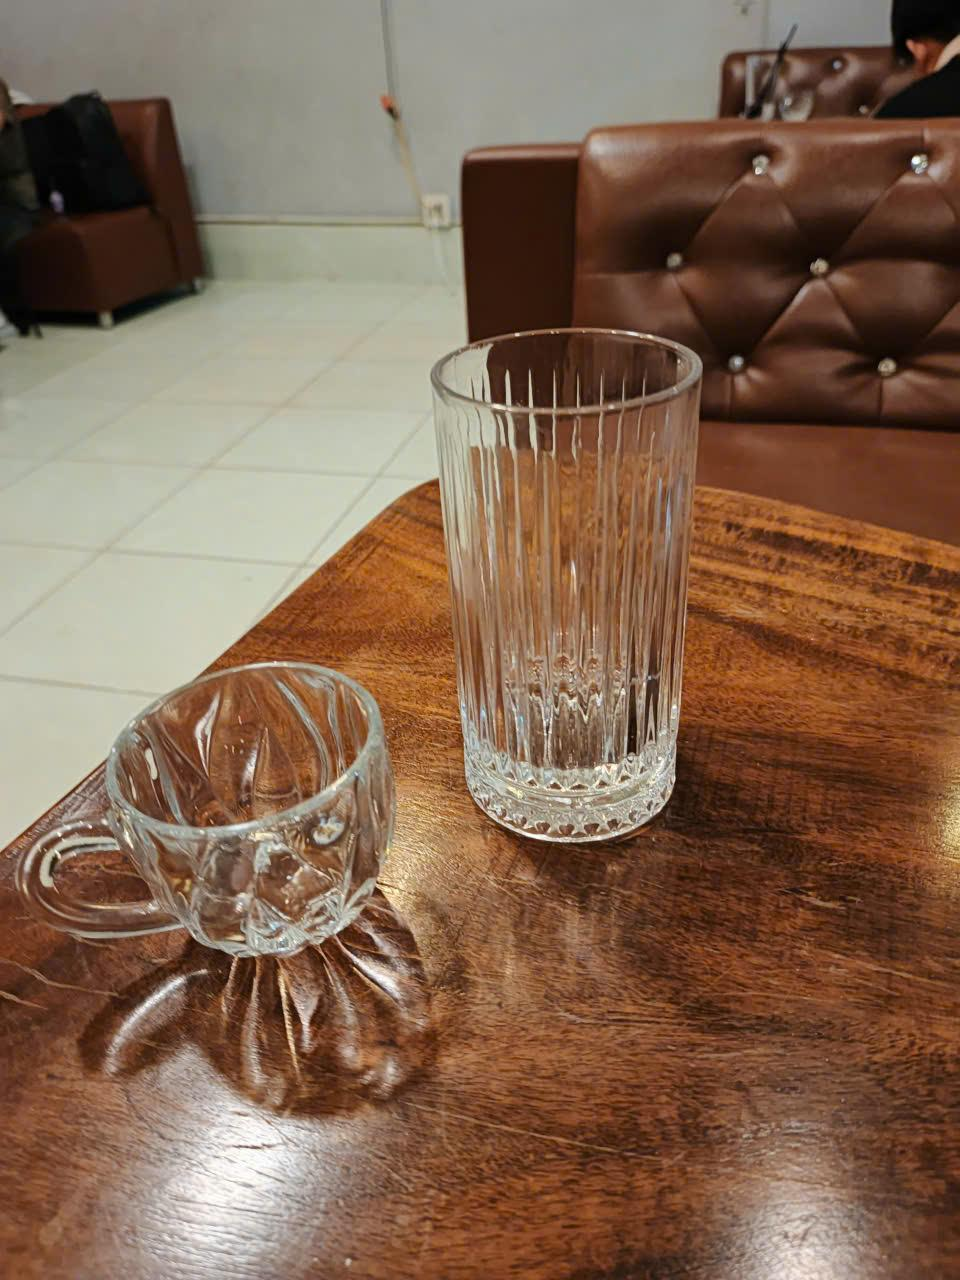Vo co: (430, 321, 706, 841), (17, 658, 396, 958)
